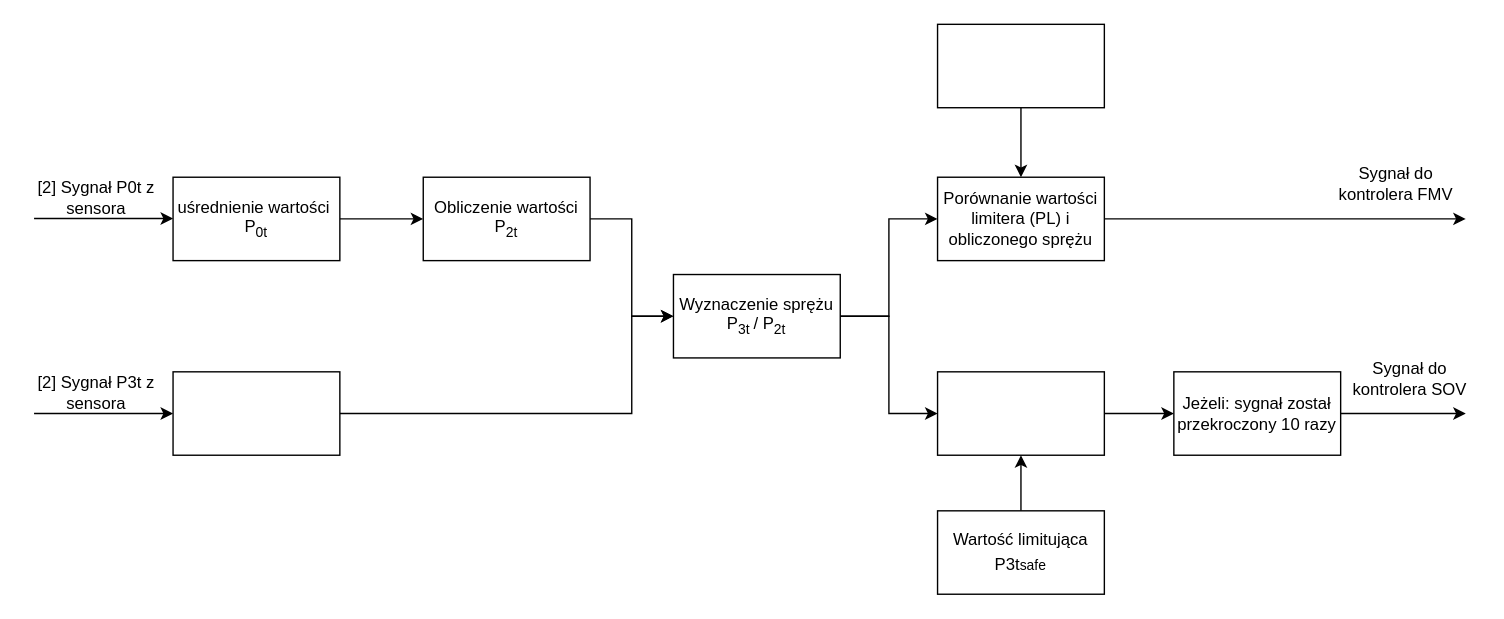
Image size: 1504x619. Some labels were removed from this diagram. The centre of each missing label's shape, as x and y in pixels:
"Porównanie wartości limitera (SL) i obliczonego sprężu" belongs at [1020,412].
"uśrednienie wartości P 3t" belongs at [256,412].
"Wartość limitująca P3t perf" belongs at [1020,65].
